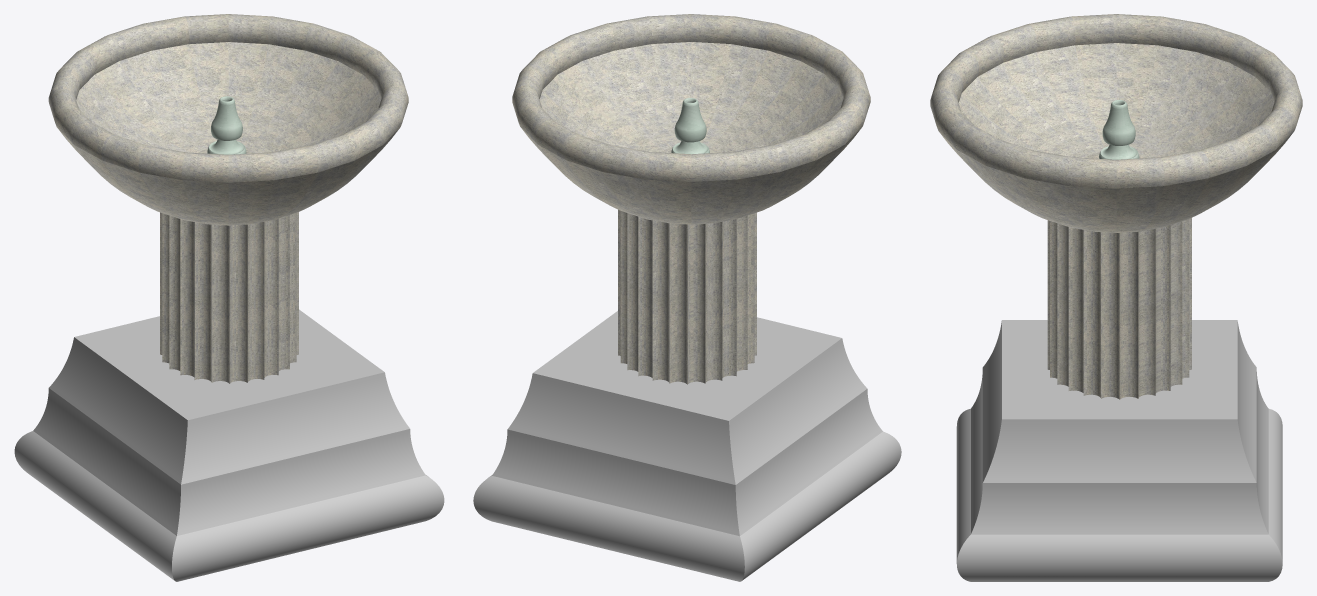
The model's file is StoneFountain.dae.
The picture shows the model from 3 angles, left to right: view 1: azimuth 30°, elevation 25°; view 2: azimuth 150°, elevation 25°; view 3: azimuth 270°, elevation 25°; orthographic projection. The views are drawn at different scales.
Parts seen in each view (by area): view 1: stone_water_fountain (×2), bica; view 2: stone_water_fountain (×2), bica; view 3: stone_water_fountain (×2), bica.
Part boxes in pixels (x1,y1,x2,y2): stone_water_fountain (×2): (14, 14, 444, 581); bica: (207, 96, 246, 154); stone_water_fountain (×2): (473, 14, 901, 581); bica: (671, 98, 709, 154); stone_water_fountain (×2): (930, 14, 1302, 581); bica: (1099, 100, 1139, 159).
Size of the model in its own units: 115 by 115 by 146.
